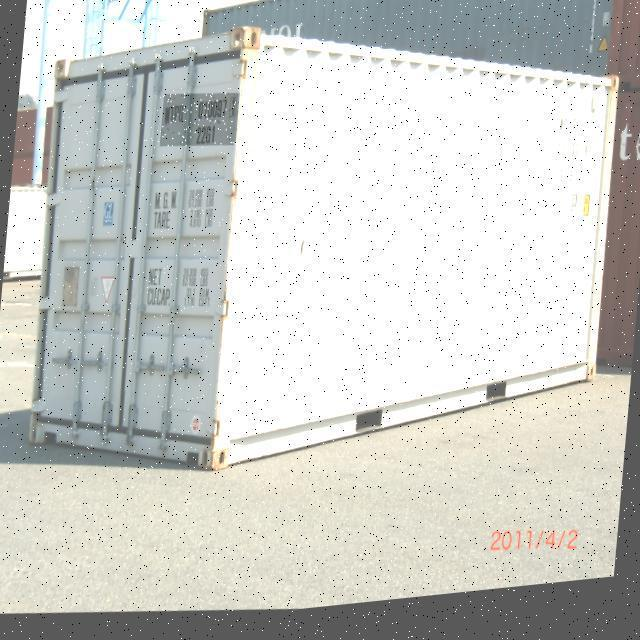container_number_h: (159, 91, 239, 156)
